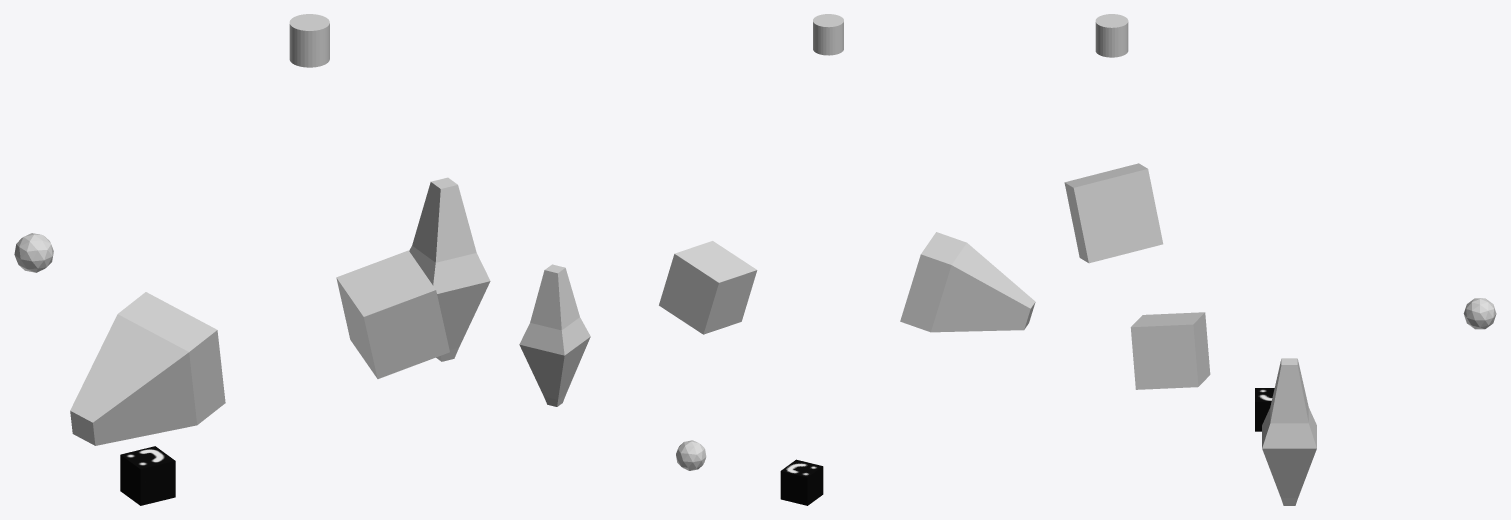
File: collisions_test.gltf
3 views of the same model, side by side, from view 1: azimuth 30°, elevation 25°; view 2: azimuth 150°, elevation 25°; view 3: azimuth 270°, elevation 25° (orthographic). The views are drawn at different scales.
Visible parts, largest first — view 1: Cube.002, Cube.001, Cube.004, Cube, Cylinder, Icosphere; view 2: Cube.002, Cube.001, Cube.004, Cube, Cylinder, Icosphere; view 3: Cube.002, Cube.001, Cube.004, Cylinder, Icosphere, Cube.
Part boxes in pixels (x1,y1,x2,y2): Cube.002: (70,292,225,445); Cube.001: (336,250,449,378); Cube.004: (409,177,490,361); Cube: (120,446,175,505); Cylinder: (289,14,329,67); Icosphere: (14,233,53,272); Cube.002: (900,232,1035,332); Cube.001: (659,241,757,334); Cube.004: (519,264,590,406); Cube: (780,459,823,505); Cylinder: (813,14,843,55); Icosphere: (676,440,706,470); Cube.002: (1064,163,1163,263); Cube.001: (1130,312,1210,389); Cube.004: (1262,358,1316,505); Cylinder: (1095,14,1128,57); Icosphere: (1463,298,1496,329); Cube: (1255,388,1274,431).
Size of the model in its own units: 29.95 by 28.86 by 26.33.
Materials: 1 (1 with a texture image).
